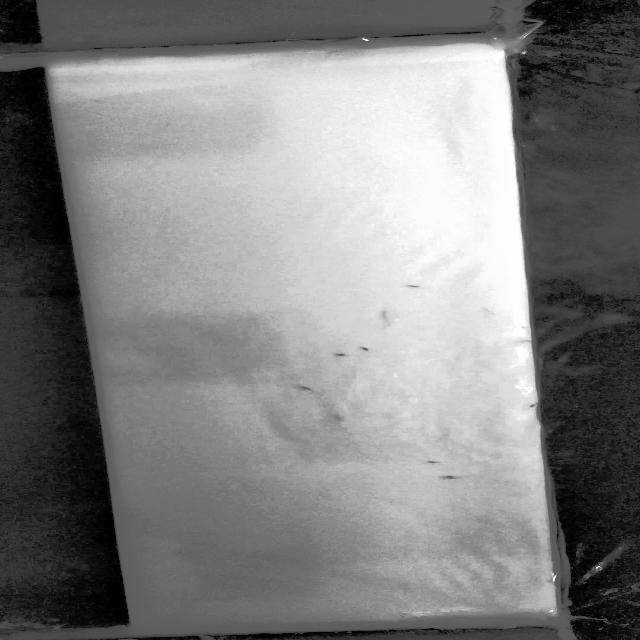shrimp: (400, 282, 434, 291), (417, 456, 448, 464), (436, 475, 465, 483), (330, 354, 359, 362), (356, 344, 379, 354), (296, 383, 320, 392)
